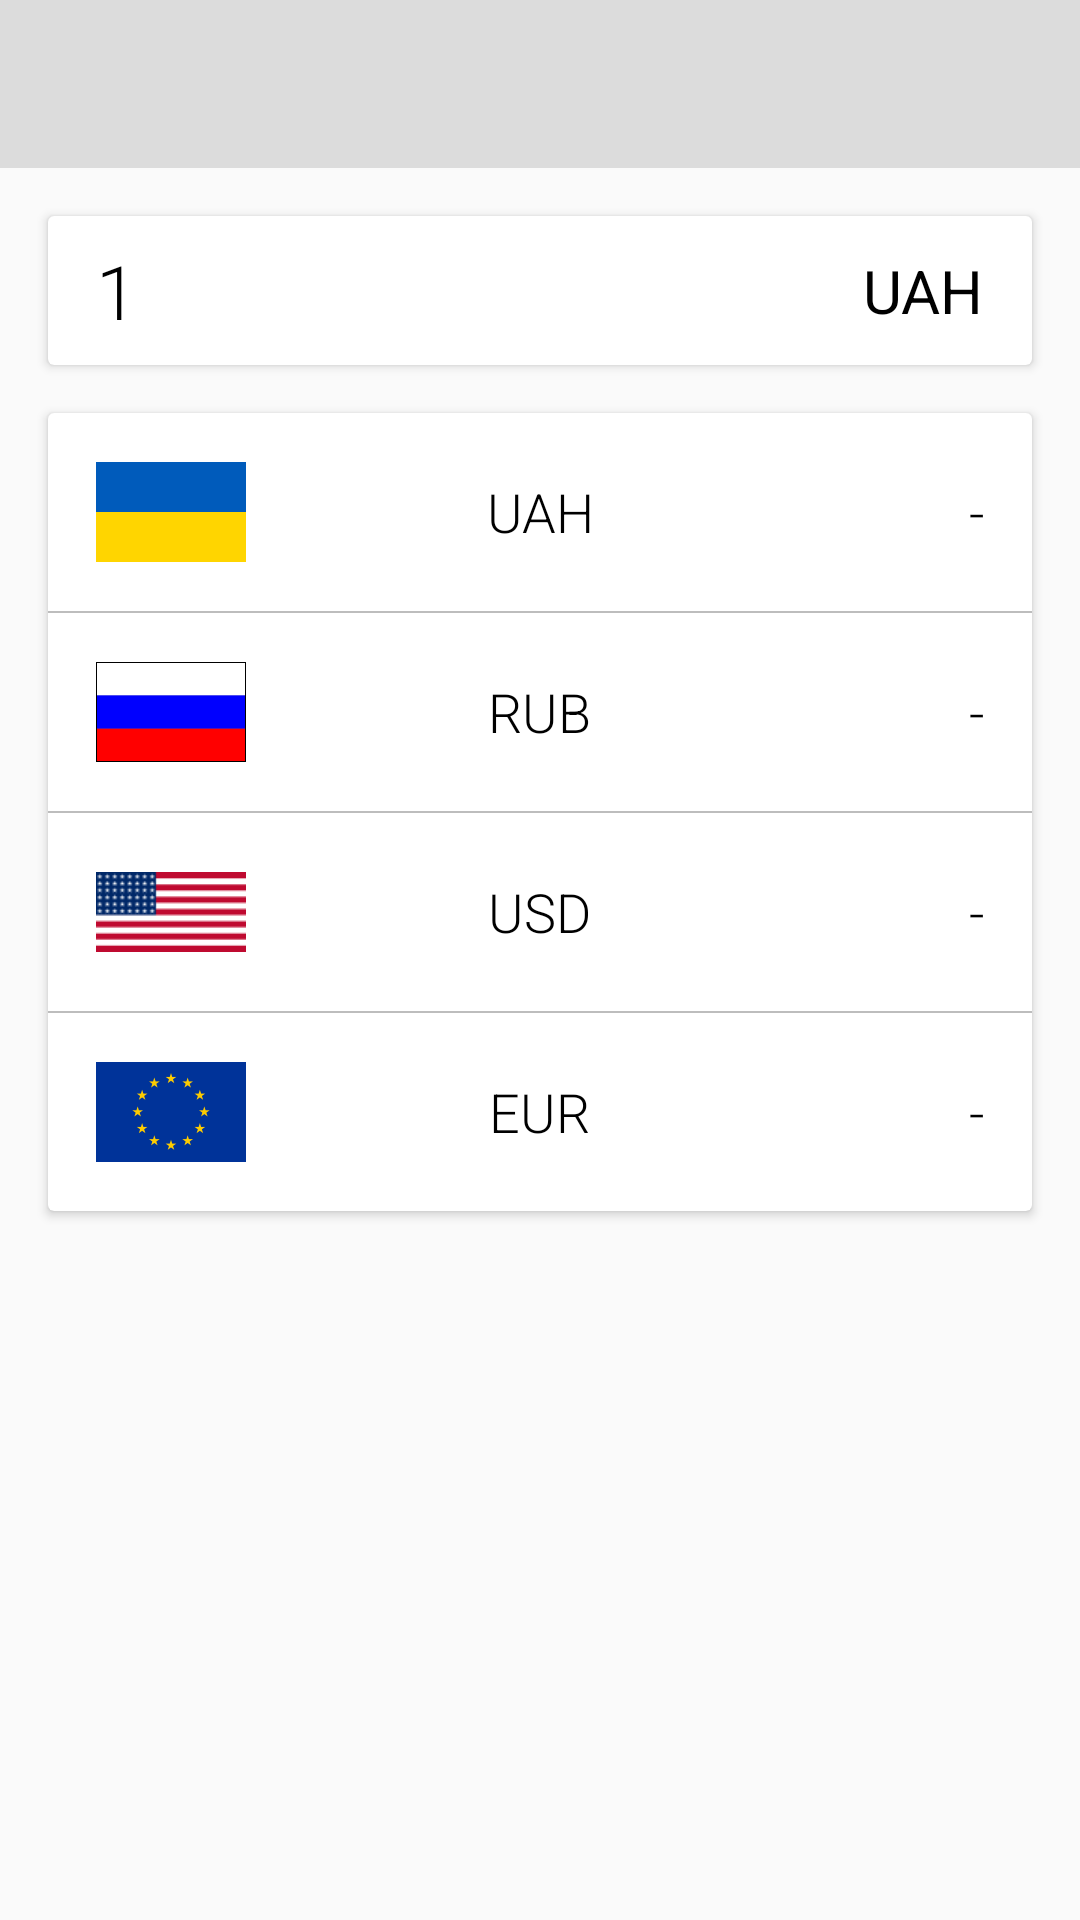

Screen size 1080x1920. Icon name, then its box in pixels as (x1, y1, x2, y2):
eur: (96, 1062, 246, 1162)
usa: (96, 872, 246, 952)
